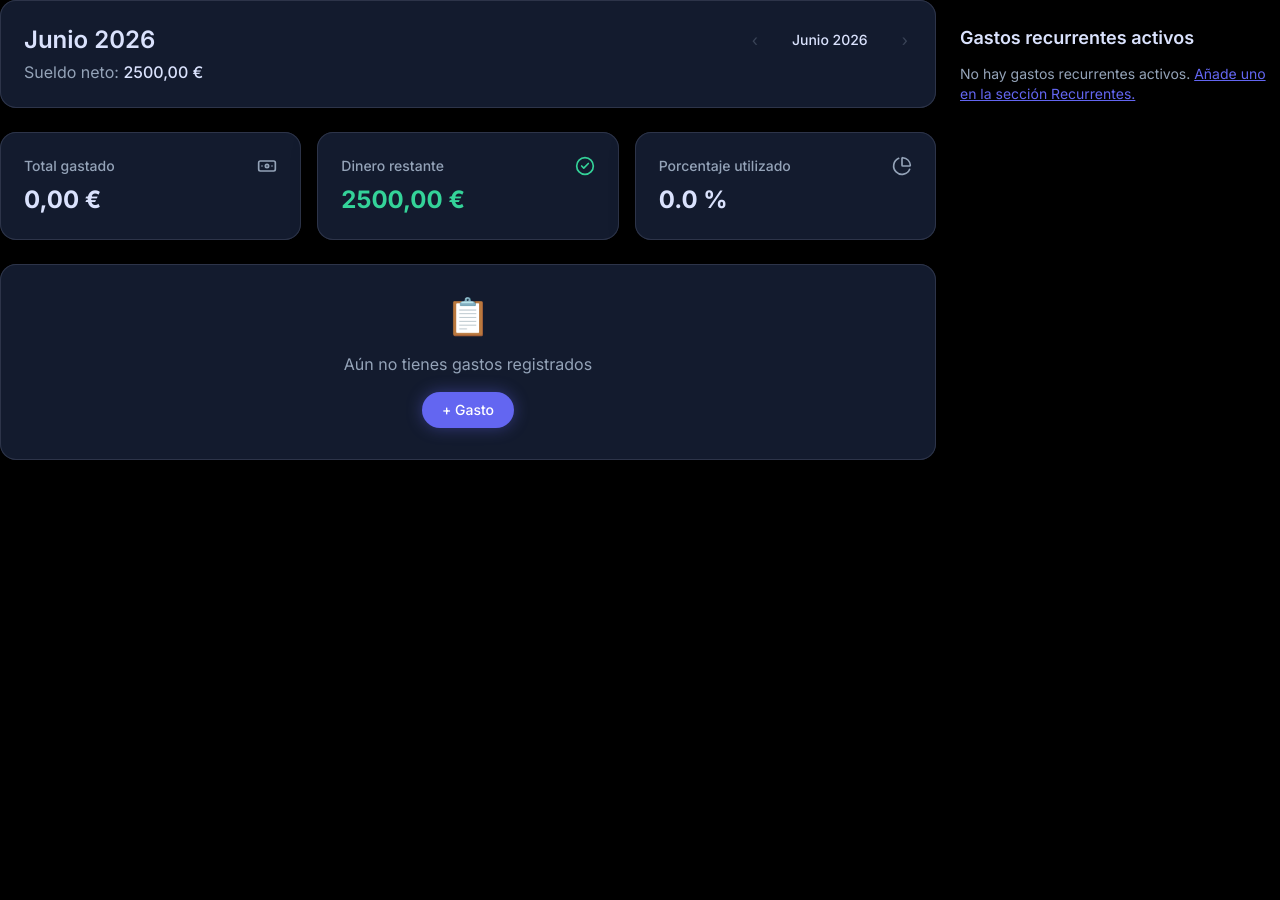
Test: DashboardPage › opens expense form modal when FAB is clicked
Click the button "+ Gasto" at (468, 410), box [422,392,514,428]
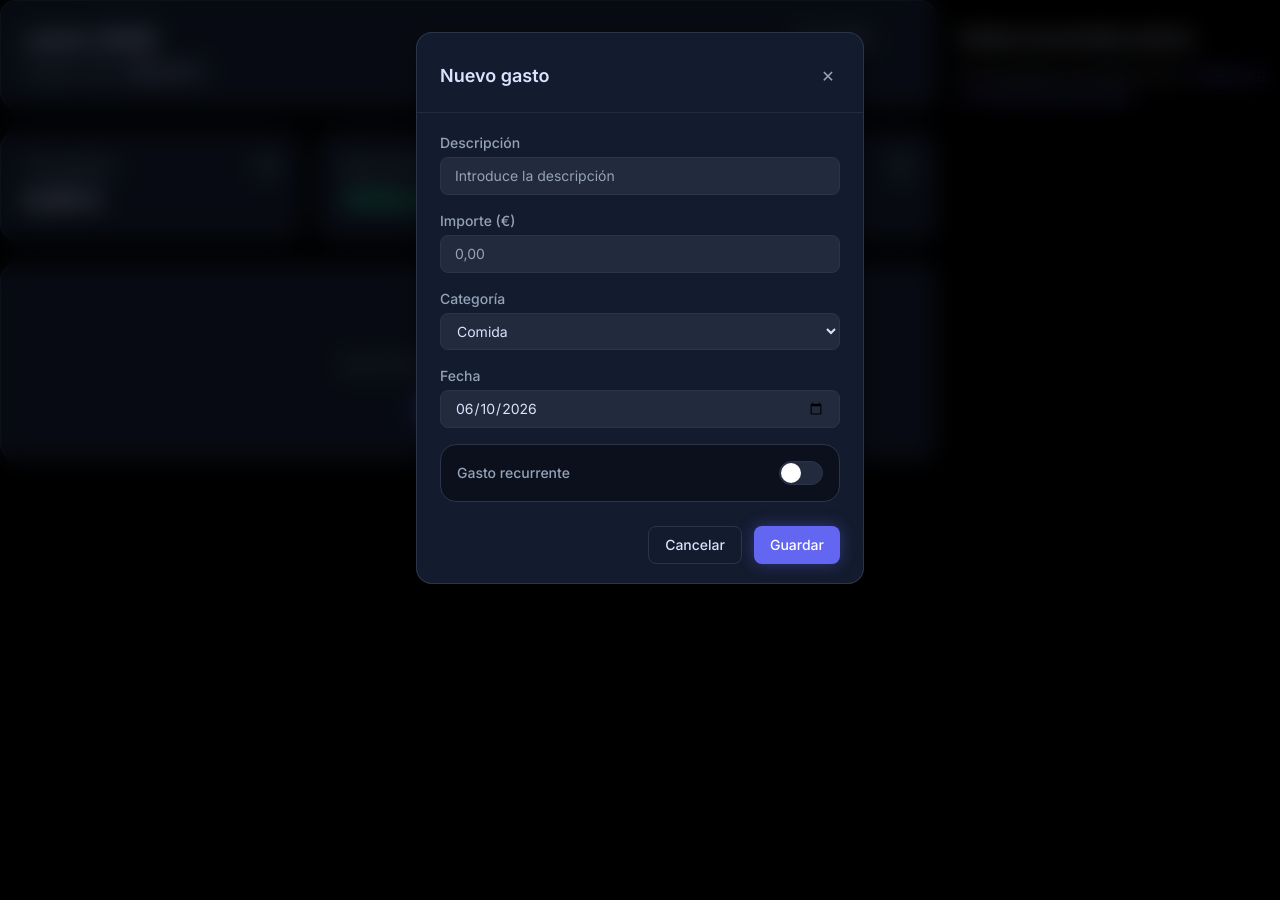
Check: the dialog is shown
